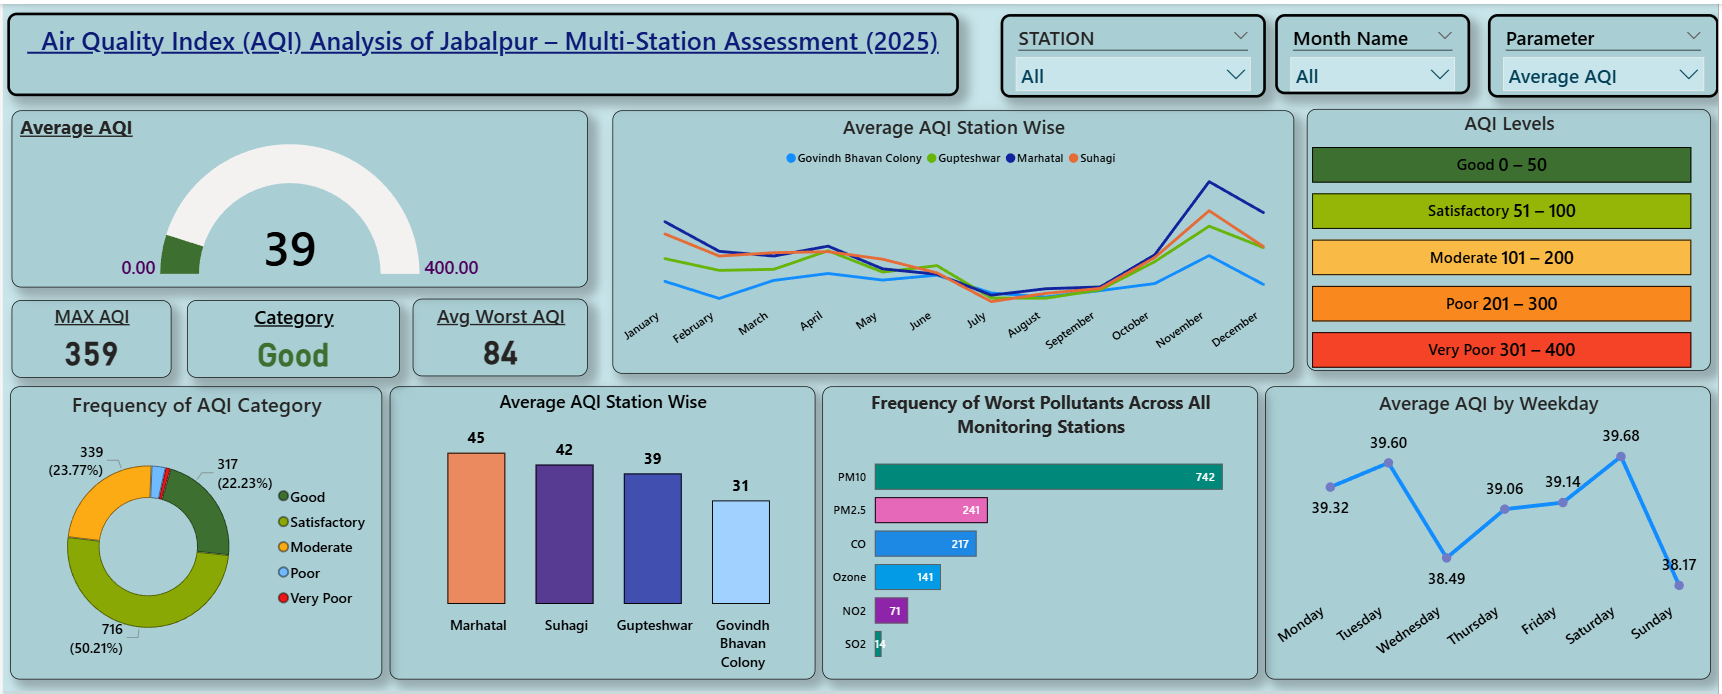

The page's visual inventory and layout, read from the dashboard file:
{"tool":"powerbi","page":{"name":"Page 1","canvas":[1800,720],"ordinal":0},"visuals":[{"type":"card","title":"Avg Worst AQI","fields":{"Values":["jabalpur_4_stations.Average_worst_AQI_JABALPUR"]},"box":[429.8,309.2,184,81.4],"z":0},{"type":"card","title":"MAX AQI","fields":{"Values":["jabalpur_4_stations.MAX_AQI_JABALPUR"]},"box":[9,310.7,167.4,81.4],"z":1000},{"type":"lineChart","fields":{"Y":["jabalpur_4_stations.Average_AQI_Jabalpur"],"Category":["DateTable.Date.Variation.Date Hierarchy.Year","DateTable.Date.Variation.Date Hierarchy.Quarter","DateTable.Date.Variation.Date Hierarchy.Month","DateTable.Date.Variation.Date Hierarchy.Day"],"Series":["jabalpur_4_stations.station_name"]},"box":[639.4,111.6,714.8,276],"z":2000},{"type":"columnChart","fields":{"Y":["jabalpur_4_stations.Average_AQI_Jabalpur"],"Category":["jabalpur_4_stations.station_name"]},"box":[405.7,401.2,446.4,307.7],"z":3000},{"type":"lineChart","fields":{"Y":["jabalpur_4_stations.Average_AQI_Jabalpur"],"Category":["DateTable.Weekday"]},"box":[1324.6,401.5,467.7,307.7],"z":4000},{"type":"barChart","title":"Frequency of Worst Pollutants Across All Monitoring Stations","fields":{"Category":["jabalpur_4_stations.pollutant_name"],"Y":["CountNonNull(jabalpur_4_stations.Worst_pollutant)"]},"box":[859.6,401.2,457,307.7],"z":5000},{"type":"donutChart","title":"Frequency of AQI Category","fields":{"Y":["CountNonNull(jabalpur_4_stations.AQI Category)"],"Category":["jabalpur_4_stations.AQI Category"]},"box":[7.5,401.2,390.6,307.7],"z":6000},{"type":"slicer","fields":{"Values":["jabalpur_4_stations.station_name"]},"box":[1046.4,10.3,278.4,87.6],"z":7000},{"type":"slicer","fields":{"Values":["DateTable.Month Name"]},"box":[1335.1,10.3,204.5,84.2],"z":8000},{"type":"gauge","title":"Average AQI","fields":{"Y":["jabalpur_4_stations.Average_AQI_Jabalpur"]},"box":[9,111.6,604.7,185.5],"z":9000},{"type":"card","title":"Category","fields":{"Values":["Min(jabalpur_4_stations.AQI Category)"]},"box":[193,310.7,223.2,81.4],"z":10000},{"type":"barChart","title":"AQI Levels","fields":{"Y":["DateTable.Label"],"Category":["jabalpur_4_stations.AQI Category"]},"box":[1367.8,110.1,423.8,274.5],"z":11000},{"type":"textbox","box":[4.6,9.2,998.5,87.7],"z":12000},{"type":"slicer","fields":{"Values":["Parameter 2.Parameter"]},"box":[1558.5,10.3,242.3,87.6],"z":13000}]}

Visuals, with their boxes in screenshot pixels (x1, y1, x2, y2), scaled from the page's 1800x720 canvas onto the 1722x694 screenshot:
"Avg Worst AQI" card: pyautogui.locateOnScreen(411, 298, 587, 376)
"MAX AQI" card: pyautogui.locateOnScreen(9, 299, 169, 378)
lineChart - jabalpur_4_stations.Average_AQI_Jabalpur x DateTable.Date.Variation.Date Hierarchy.Year: pyautogui.locateOnScreen(612, 108, 1296, 374)
columnChart - jabalpur_4_stations.Average_AQI_Jabalpur x jabalpur_4_stations.station_name: pyautogui.locateOnScreen(388, 387, 815, 683)
lineChart - jabalpur_4_stations.Average_AQI_Jabalpur x DateTable.Weekday: pyautogui.locateOnScreen(1267, 387, 1715, 684)
"Frequency of Worst Pollutants Across All Monitoring Stations" barChart: pyautogui.locateOnScreen(822, 387, 1260, 683)
"Frequency of AQI Category" donutChart: pyautogui.locateOnScreen(7, 387, 381, 683)
slicer - jabalpur_4_stations.station_name: pyautogui.locateOnScreen(1001, 10, 1267, 94)
slicer - DateTable.Month Name: pyautogui.locateOnScreen(1277, 10, 1473, 91)
"Average AQI" gauge: pyautogui.locateOnScreen(9, 108, 587, 286)
"Category" card: pyautogui.locateOnScreen(185, 299, 398, 378)
"AQI Levels" barChart: pyautogui.locateOnScreen(1309, 106, 1714, 371)
textbox: pyautogui.locateOnScreen(4, 9, 960, 93)
slicer - Parameter 2.Parameter: pyautogui.locateOnScreen(1491, 10, 1721, 94)
